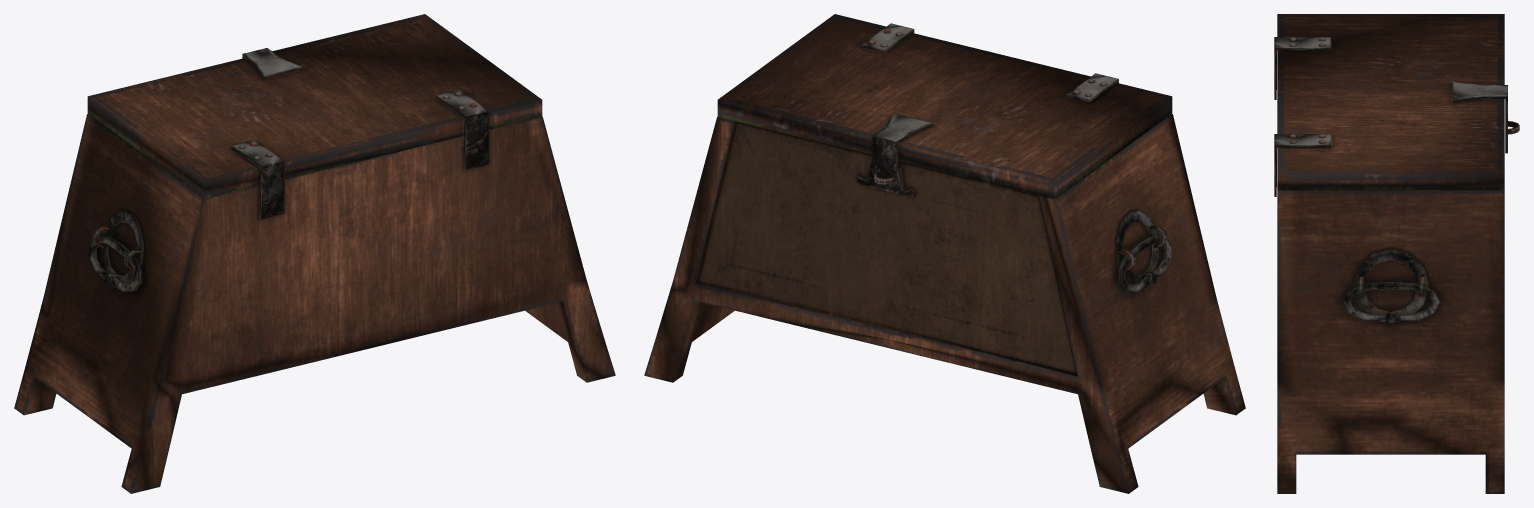
Rendered from Kiste.dae.
3 views of the same model, side by side, from view 1: azimuth 30°, elevation 25°; view 2: azimuth 150°, elevation 25°; view 3: azimuth 270°, elevation 25° (orthographic). The views are drawn at different scales.
Visible parts, largest first — view 1: Kiste_High; view 2: Kiste_High; view 3: Kiste_High.
Part boxes in pixels (left/top/right/bottom): Kiste_High: left=14, top=14, right=615, bottom=493; Kiste_High: left=644, top=14, right=1245, bottom=493; Kiste_High: left=1274, top=14, right=1519, bottom=493.
Bounding box in the file's own units: 0.9 × 0.407 × 0.5306.
Materials: 3 (3 with a texture image).
